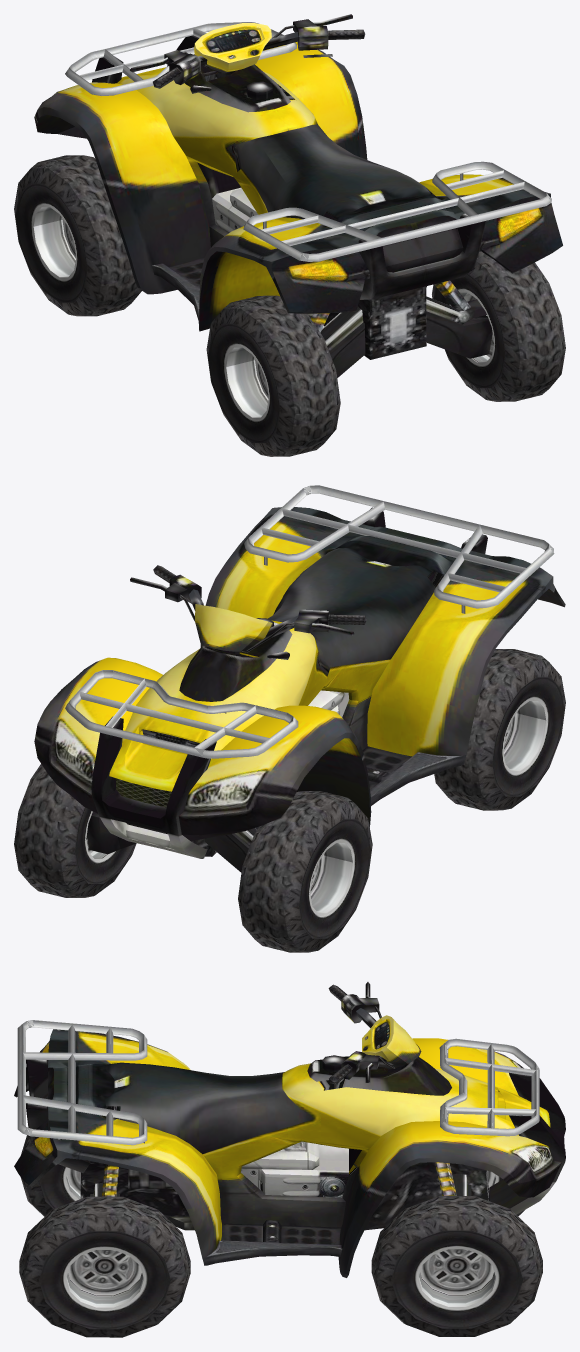
The model's file is buggy 1.fbx.
3 views of the same model, one above another, from view 1: azimuth 30°, elevation 25°; view 2: azimuth 150°, elevation 25°; view 3: azimuth 270°, elevation 25° (orthographic). The views are drawn at different scales.
Parts seen in each view (by area): view 1: body, tyre.001, tyre.003, tyre, handle; view 2: body, tyre.003, tyre.001, tyre.002, handle; view 3: body, tyre, tyre.002, handle, tyre.001.
Boxes of the visible parts, bbox=[...] form: body: bbox=[34, 22, 562, 377]; tyre.001: bbox=[206, 295, 340, 456]; tyre.003: bbox=[14, 155, 141, 316]; tyre: bbox=[432, 251, 565, 401]; handle: bbox=[130, 14, 365, 88]; body: bbox=[34, 485, 565, 872]; tyre.003: bbox=[238, 791, 372, 952]; tyre.001: bbox=[434, 649, 565, 810]; tyre.002: bbox=[14, 764, 136, 897]; handle: bbox=[130, 565, 366, 657]; body: bbox=[14, 1020, 565, 1277]; tyre: bbox=[19, 1196, 190, 1337]; tyre.002: bbox=[371, 1196, 542, 1336]; handle: bbox=[328, 982, 421, 1084]; tyre.001: bbox=[21, 1135, 80, 1216].
Bounding box in the file's own units: 145 × 135 × 267.
1 material, 1 textured.
